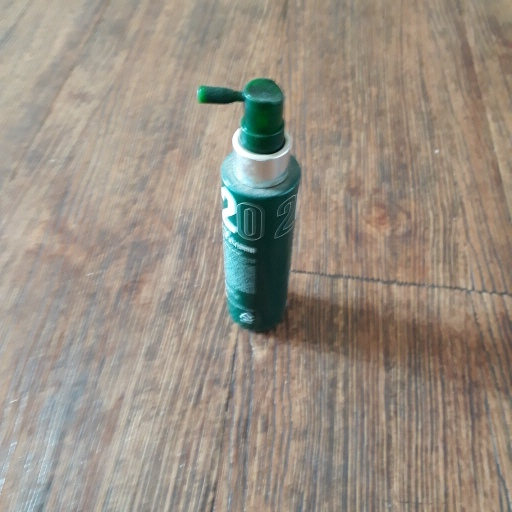Plastic_3: (196, 77, 303, 334)
